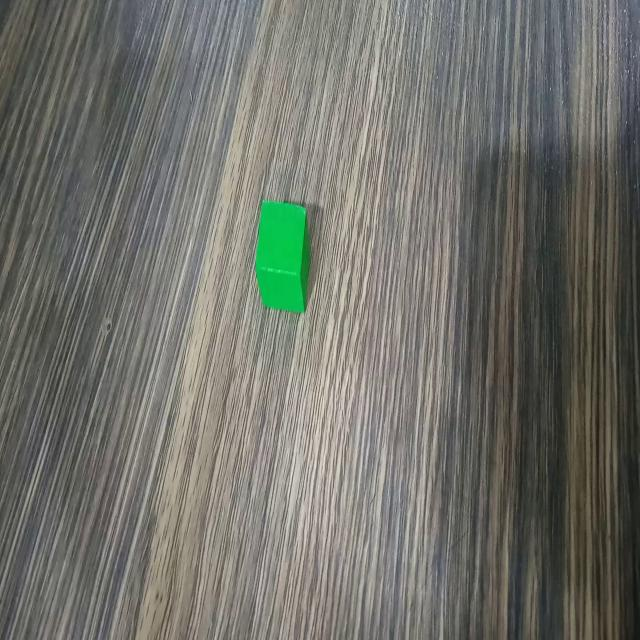cube: (250, 194, 312, 313)
